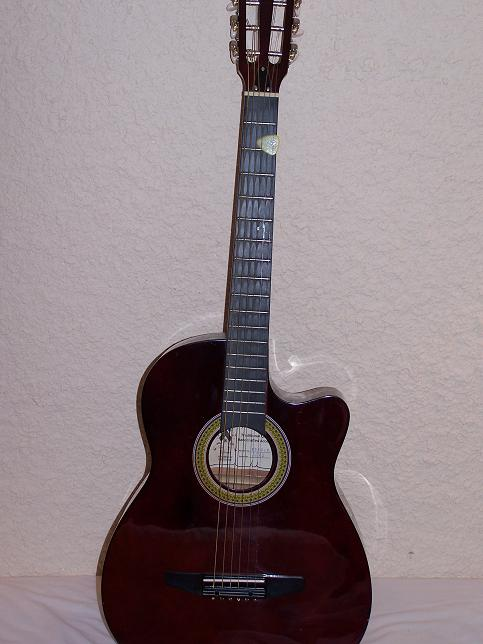guitar: (91, 1, 370, 644)
